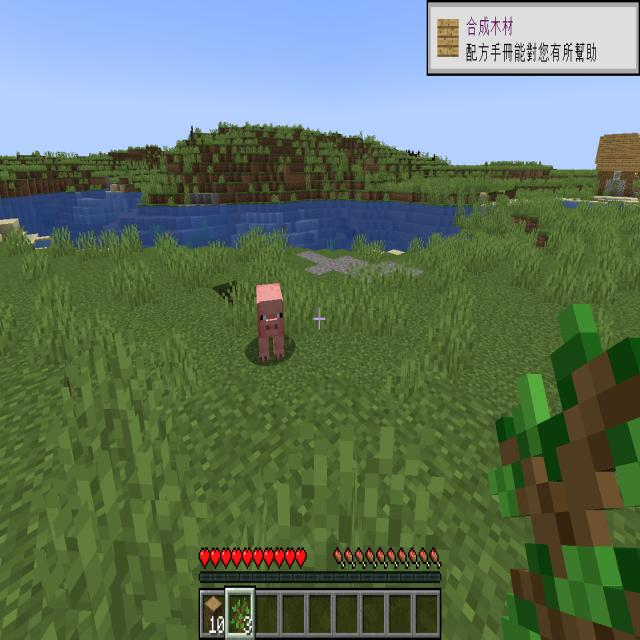pig: (246, 276, 299, 382)
